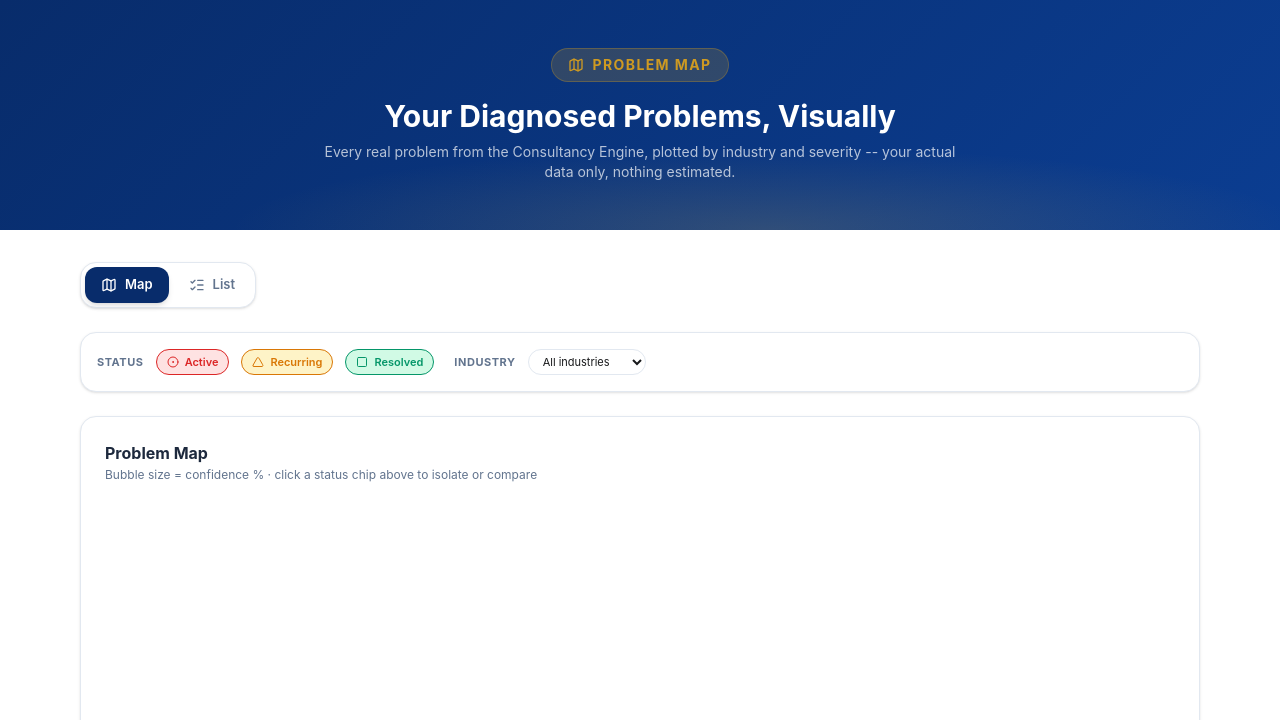
Test case: ProblemMap › renders real scatter points grouped by industry, with severity and status
Click the tab "List". click: (212, 285)
box: left=173, top=267, right=251, bottom=302
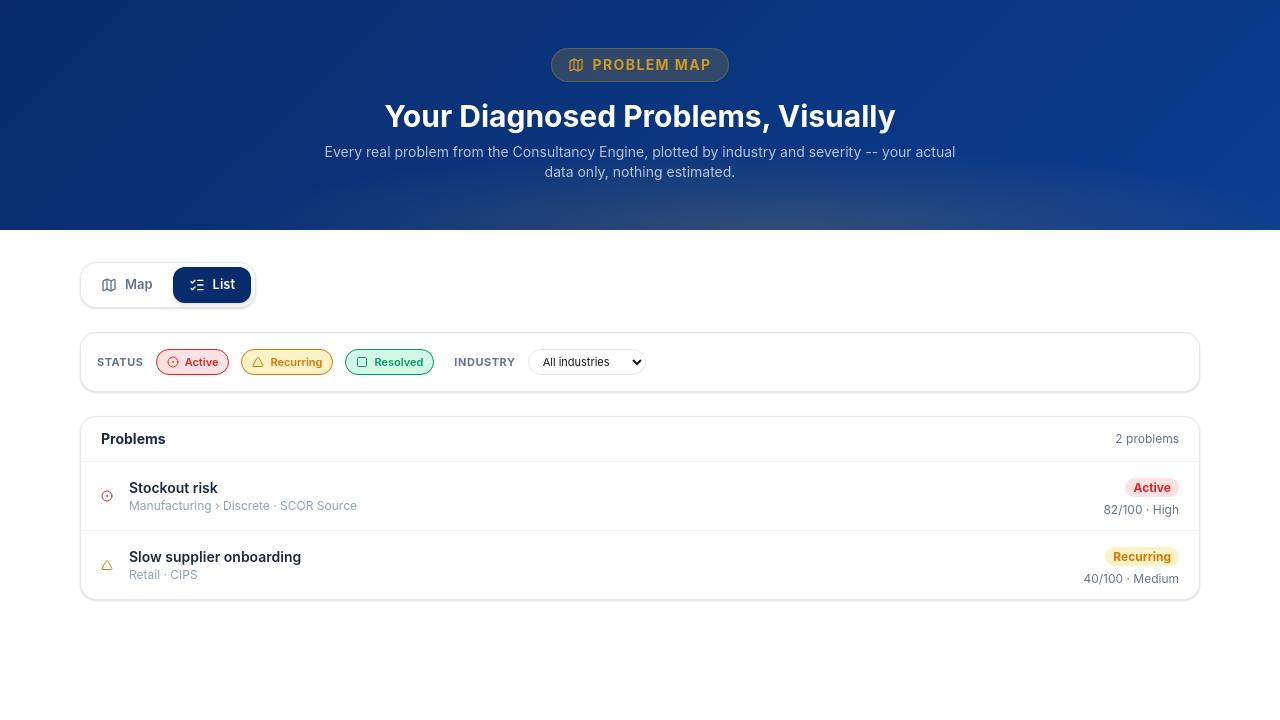
Now the heading "Problems" is shown, box left=101, top=429, right=166, bottom=449
Now the text "Stockout risk" is shown, box left=129, top=479, right=218, bottom=496
Now the text "Slow supplier onboarding" is shown, box left=129, top=548, right=301, bottom=565
